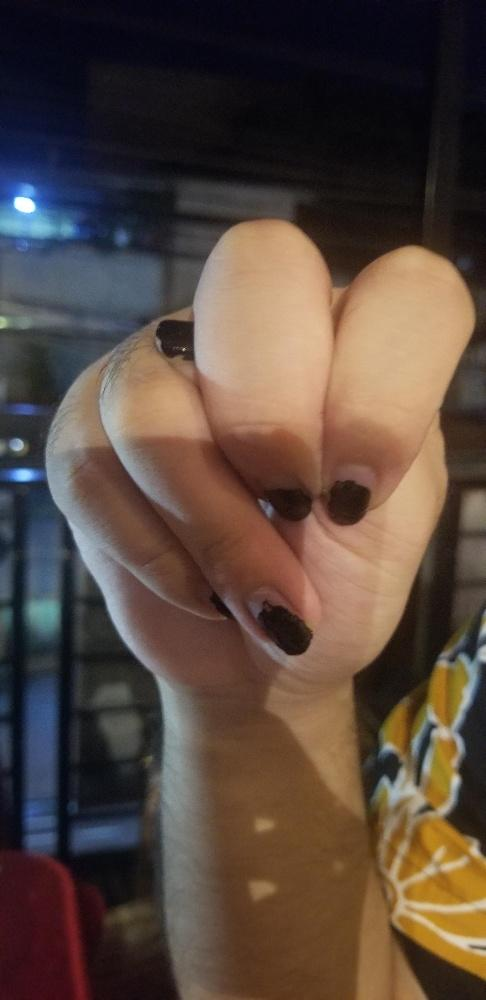n: (39, 220, 478, 698)
